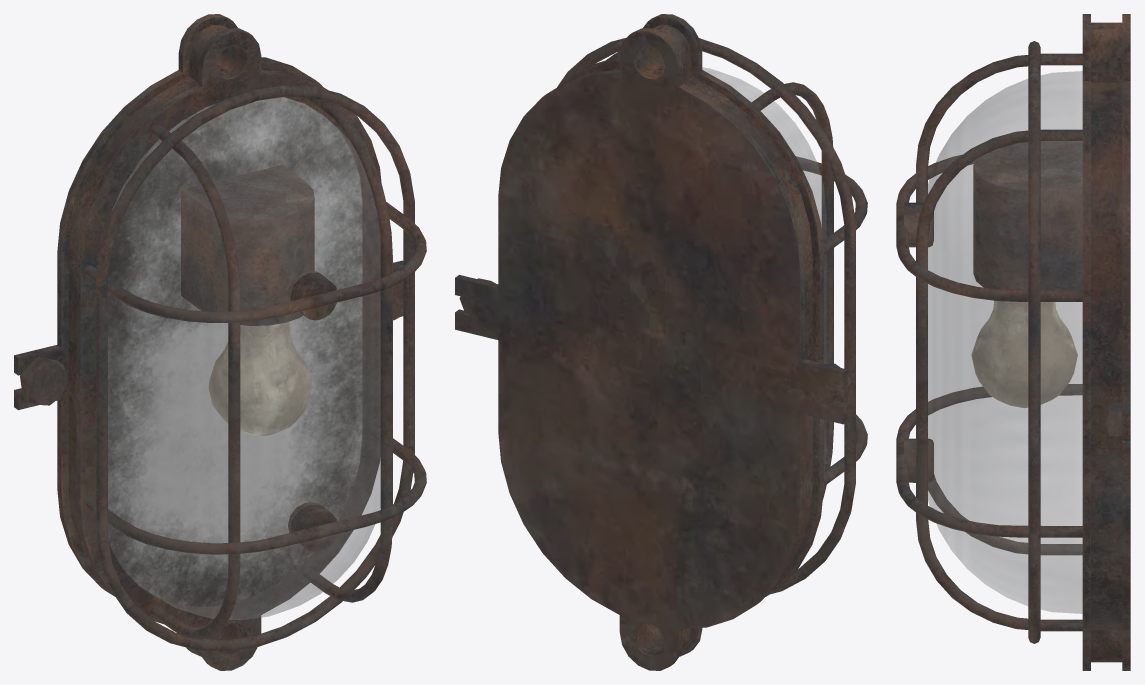
Rendered from industrial_wall_lamp.glb.
The picture shows the model from 3 angles, left to right: view 1: azimuth 30°, elevation 25°; view 2: azimuth 150°, elevation 25°; view 3: azimuth 270°, elevation 25°; orthographic projection.
Parts seen in each view (by area): view 1: industrial_wall_lamp; view 2: industrial_wall_lamp; view 3: industrial_wall_lamp.
Boxes of the visible parts, x1,y1,x2,y2 form: industrial_wall_lamp: [14, 14, 426, 670]; industrial_wall_lamp: [455, 14, 867, 670]; industrial_wall_lamp: [896, 14, 1130, 670].
Size of the model in its own units: 0.2735 by 0.4299 by 0.1404.
Materials: 2 (2 with a texture image).
